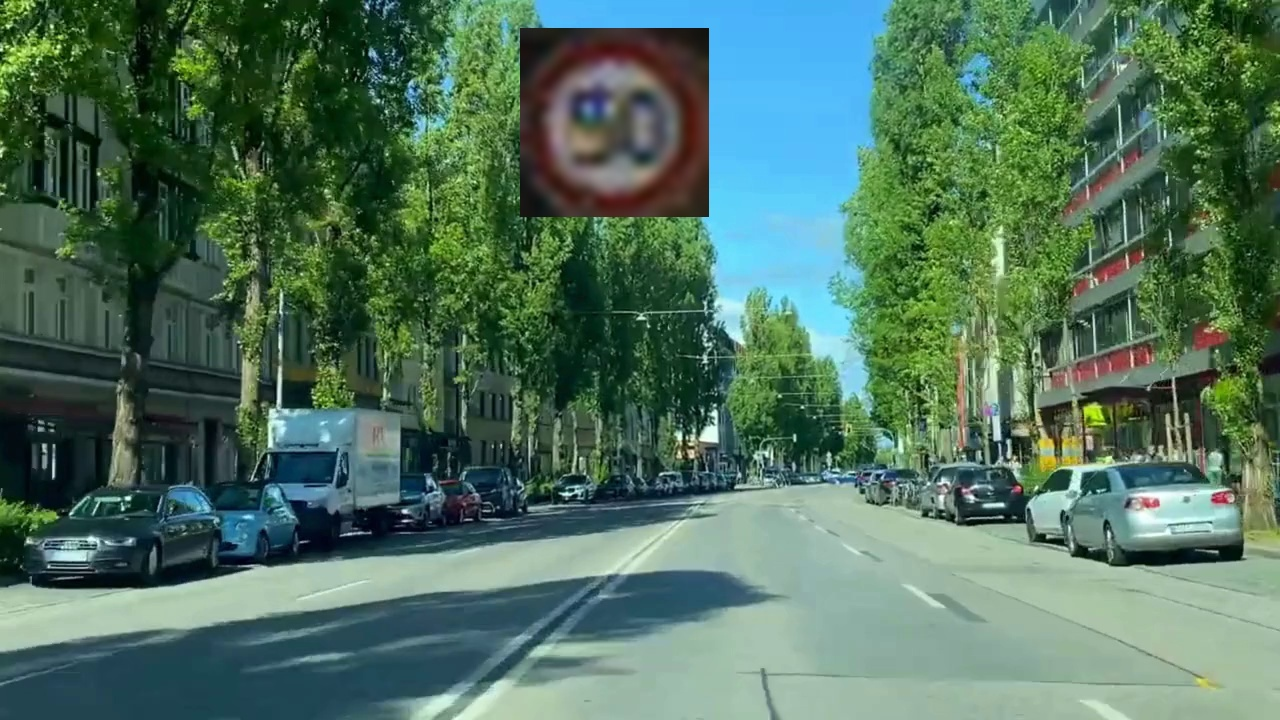Speed 50: (520, 28, 709, 217)
